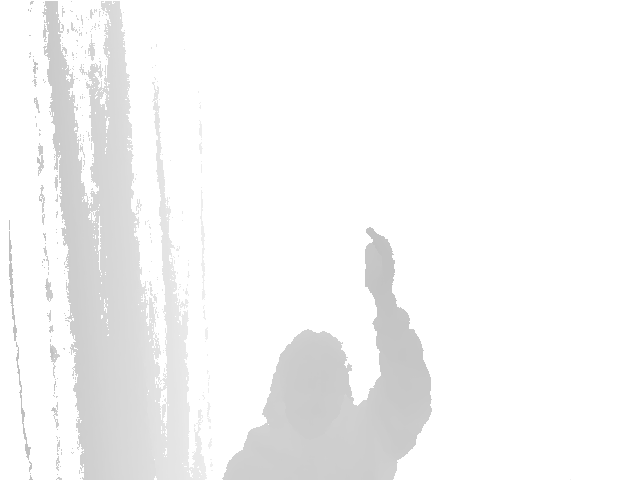hand: (363, 226, 396, 307)
head: (260, 328, 356, 414)
person: (223, 224, 434, 480)
